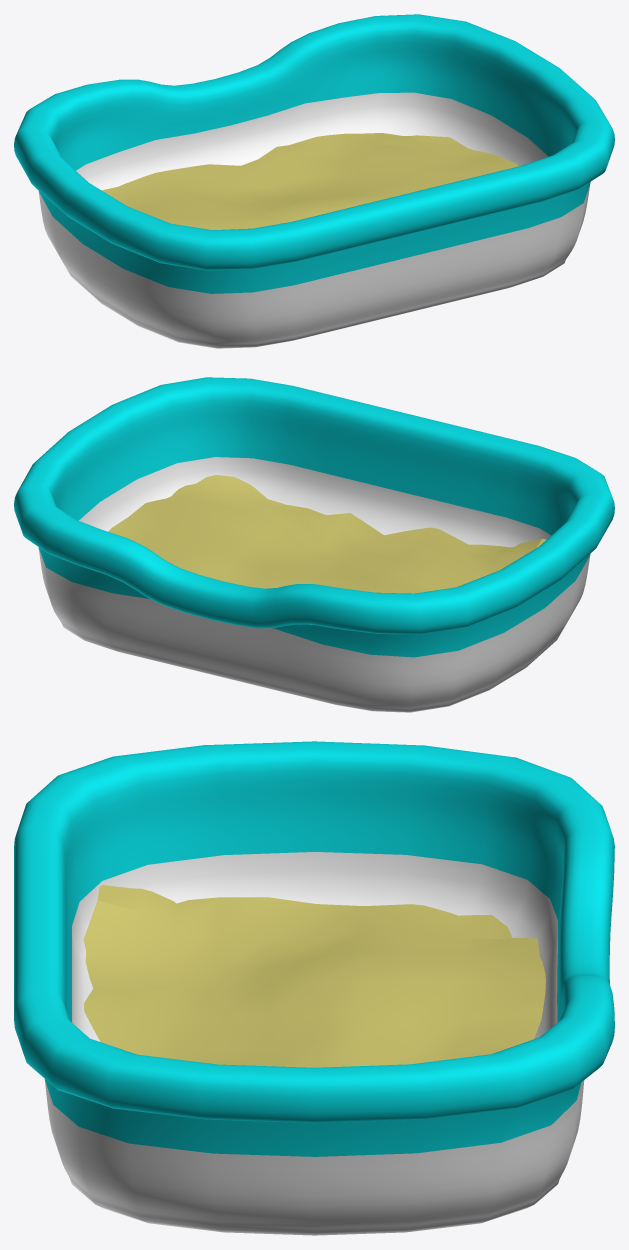
The model's file is Litterbox.fbx.
3 views of the same model, one above another, from view 1: azimuth 30°, elevation 25°; view 2: azimuth 150°, elevation 25°; view 3: azimuth 270°, elevation 25° (orthographic). The views are drawn at different scales.
Visible parts, largest first — view 1: Box, Litter; view 2: Box, Litter; view 3: Box, Litter.
Boxes of the visible parts, left/top/right/bottom form: Box: left=14, top=14, right=614, bottom=348; Litter: left=102, top=133, right=518, bottom=230; Box: left=14, top=377, right=614, bottom=712; Litter: left=108, top=475, right=546, bottom=593; Box: left=14, top=741, right=614, bottom=1235; Litter: left=83, top=885, right=545, bottom=1067.
Bounding box in the file's own units: 2611 × 665 × 1911.
